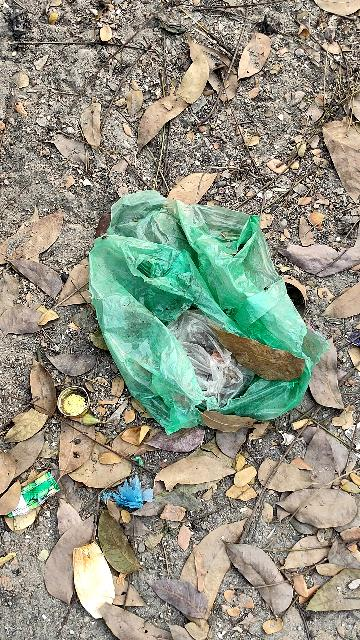polythene: (90, 207, 320, 425)
